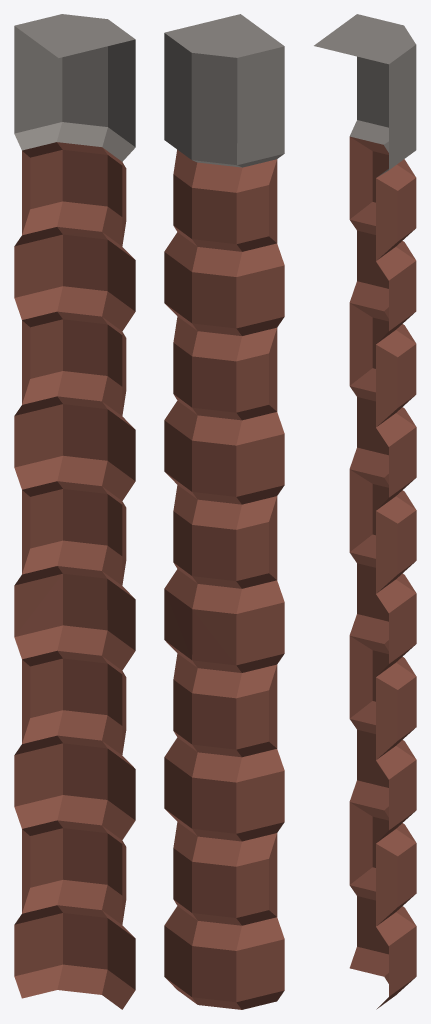
The model's file is Brick_corner.fbx.
3 renders of one model, left to right at view 1: azimuth 30°, elevation 25°; view 2: azimuth 210°, elevation 25°; view 3: azimuth 330°, elevation 25°, orthographic.
Parts seen in each view (by area): view 1: Wall_1.014; view 2: Wall_1.014; view 3: Wall_1.014.
Part boxes in pixels (left/top/right/bottom): Wall_1.014: left=14, top=14, right=135, bottom=1009; Wall_1.014: left=164, top=14, right=284, bottom=1009; Wall_1.014: left=314, top=14, right=416, bottom=1009.
Bounding box in the file's own units: 25 × 300 × 25.
